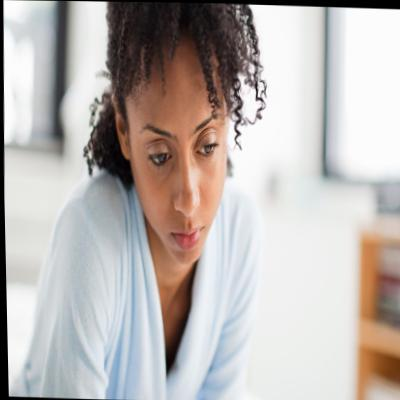sad: (133, 61, 232, 265)
